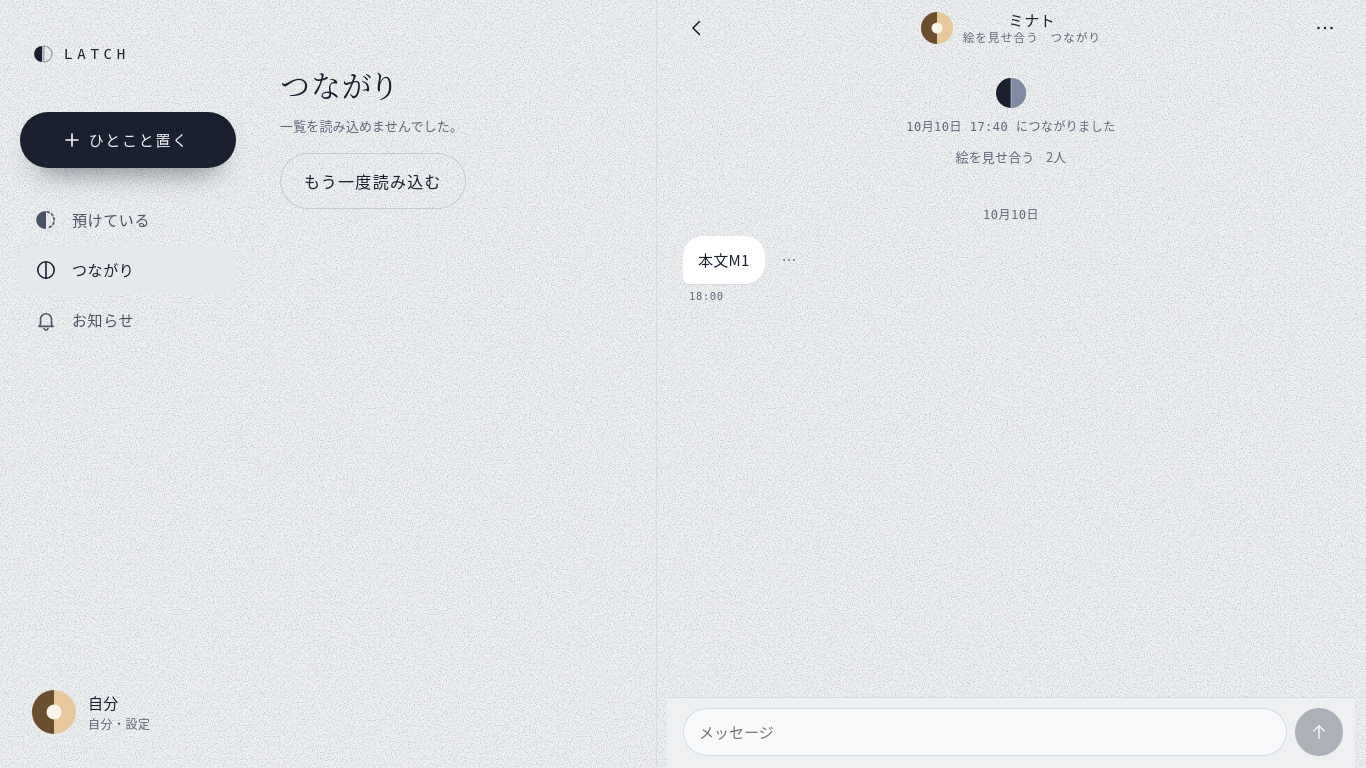
Test: Chat のメッセージの操作 › [閉じる]でシートが閉じる
Click the button named "このメッセージの操作": click(789, 260) [767, 238, 811, 282]
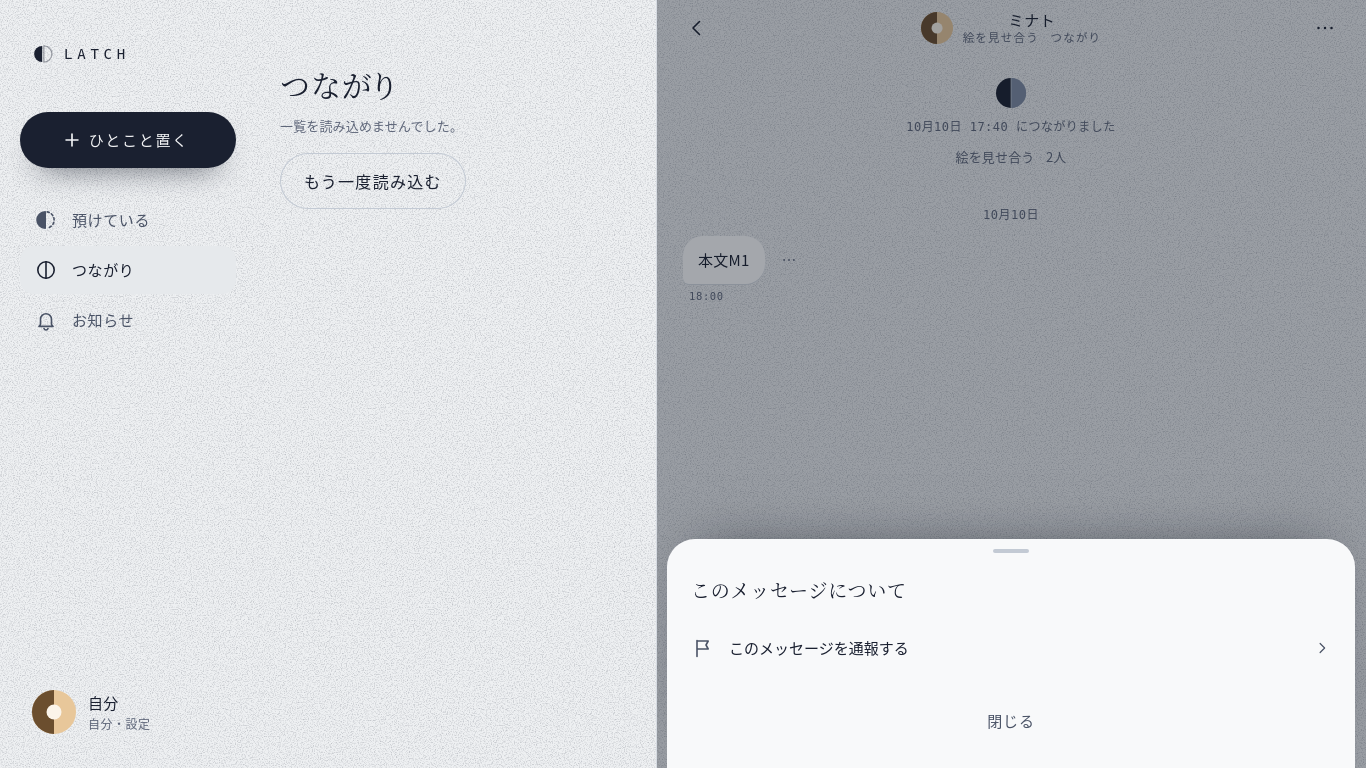
Click the button "閉じる": click(1011, 720) [691, 696, 1331, 744]
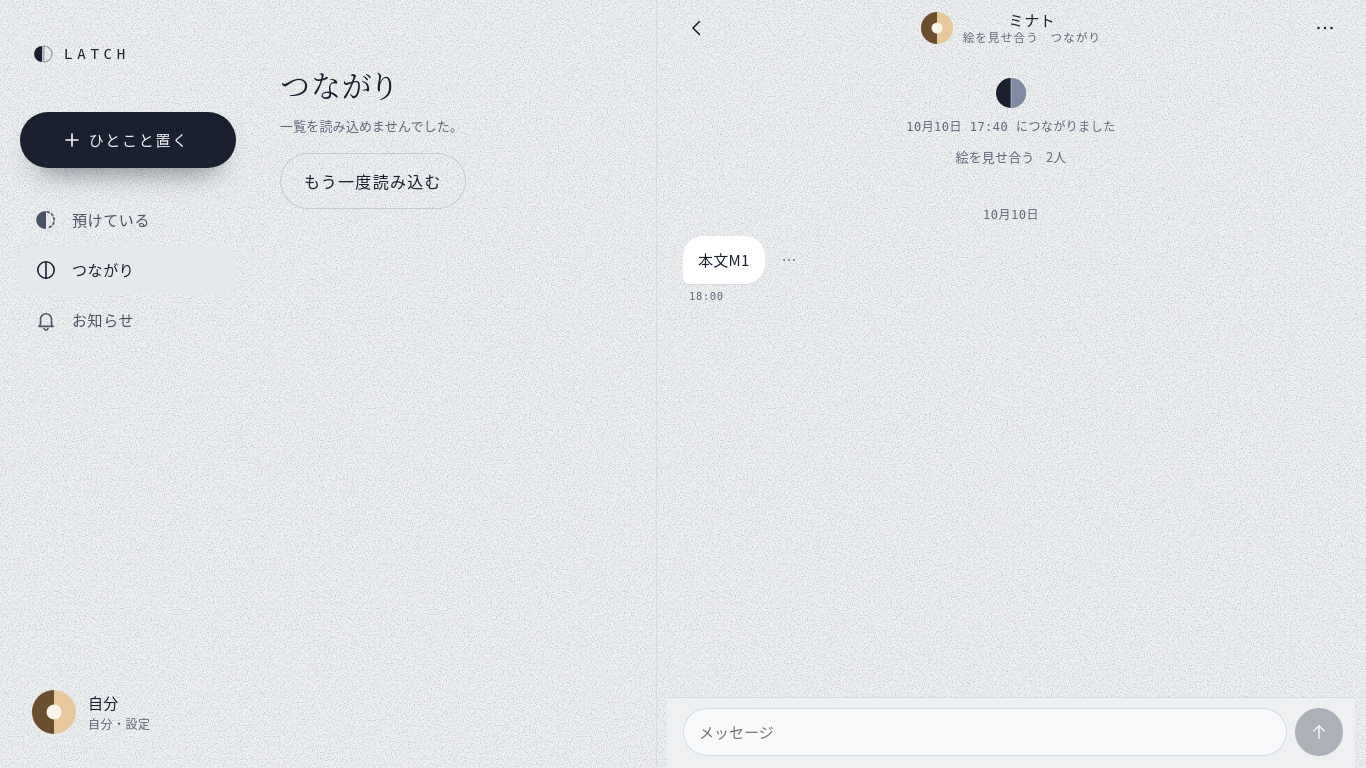
Result: the heading "このメッセージについて" is gone
